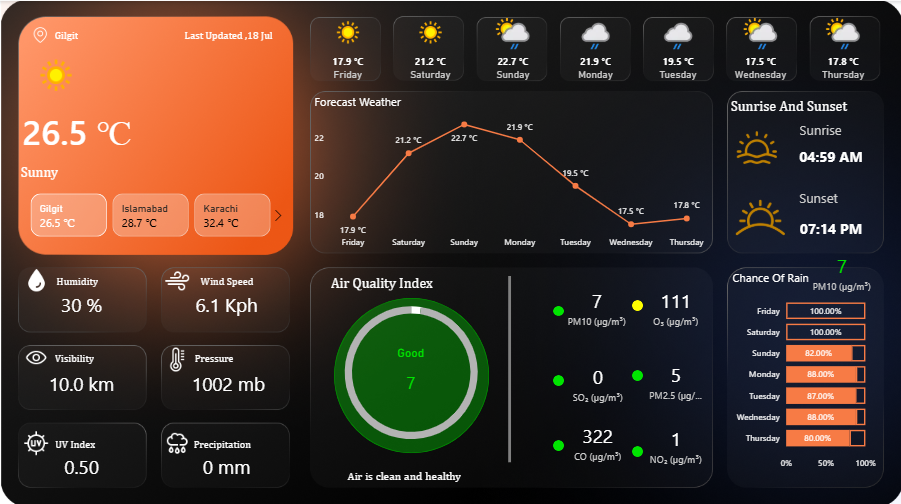

The page's visual inventory and layout, read from the dashboard file:
{"tool":"powerbi","page":{"name":"Page 1","canvas":[1280,720],"ordinal":0},"visuals":[{"type":"shape","box":[472.9,421.4,220,220],"z":0},{"type":"advancedSlicerVisual","fields":{"Values":["Location.location.name"]},"box":[18.3,268.3,391.7,71.7],"z":1000},{"type":"shape","box":[27.1,147.1,382.9,68.6],"z":2000},{"type":"shape","box":[25,215,346.7,53.3],"z":3000},{"type":"shape","box":[73,21,111,54],"z":4000},{"type":"shape","box":[199,21,192,54],"z":5000},{"type":"image","box":[41,31,32,34],"z":6000},{"type":"cardVisual","fields":{"Data":["Min(Current.current.condition.icon)"]},"box":[18.3,48.3,110,111.7],"z":7000},{"type":"image","box":[27.8,483.3,45.6,44.4],"z":8000},{"type":"shape","box":[75.6,488.9,80,34.4],"z":9000},{"type":"shape","box":[270,601.1,102.2,53.3],"z":10000},{"type":"shape","box":[273.3,488.9,72.2,33.3],"z":11000},{"type":"shape","box":[282.2,381.1,83.3,31.1],"z":12000},{"type":"shape","box":[74.4,606.7,82.2,42.2],"z":13000},{"type":"shape","box":[77.8,381.1,74.4,31.1],"z":14000},{"type":"image","box":[227.8,373.3,45.6,47.8],"z":15000},{"type":"image","box":[27.8,603.3,45.6,45.6],"z":16000},{"type":"image","box":[30,373.3,44.4,45.6],"z":17000},{"type":"image","box":[227.8,486.7,45.6,44.4],"z":18000},{"type":"image","box":[227.8,604.4,45.6,45.6],"z":19000},{"type":"card","fields":{"Values":["_Measures.Humidity"]},"box":[21.4,397.1,188.6,70],"z":20000},{"type":"card","fields":{"Values":["_Measures.Wind_Speed"]},"box":[227.1,397.1,188.6,70],"z":21000},{"type":"card","fields":{"Values":["_Measures.Visibility"]},"box":[21.4,508.6,188.6,70],"z":22000},{"type":"card","fields":{"Values":["Sum(Current.current.uv)"]},"box":[21.4,627.1,188.6,70],"z":23000},{"type":"card","fields":{"Values":["_Measures.Pressure"]},"box":[230,508.6,188.6,70],"z":24000},{"type":"card","fields":{"Values":["_Measures.Precipitation"]},"box":[227.1,627.1,188.6,70],"z":25000},{"type":"advancedSlicerVisual","fields":{"Values":["Forecast_Day.Day_Name"]},"box":[433.3,10,821.7,120],"z":26000},{"type":"lineChart","title":"Forecast Weather","fields":{"Y":["Sum(Forecast_Day.forecast.forecastday.day.avgtemp_c)"],"Category":["Forecast_Day.Day_Name"]},"box":[440.9,131.8,569.1,228.2],"z":27000},{"type":"shape","box":[1033.3,130,221.7,35],"z":28000},{"type":"shape","box":[1130,200,110,41.7],"z":29000},{"type":"shape","box":[1130,295,116.7,55],"z":30000},{"type":"shape","box":[1130,156.7,93.3,50],"z":31000},{"type":"shape","box":[1130,258.3,96.7,41.7],"z":32000},{"type":"image","box":[1026.7,251.7,103.3,108.3],"z":33000},{"type":"image","box":[1033.3,175,78.3,66.7],"z":34000},{"type":"hundredPercentStackedBarChart","title":"Chance Of Rain","fields":{"Y":["Sum(Forecast_Day.forecast.forecastday.day.daily_chance_of_rain)","Current.Left_Value_RainS"],"Category":["Forecast_Day.Day_Name"]},"box":[1033.3,381.7,213.3,291.7],"z":35000},{"type":"shape","box":[466.7,381.7,221.7,35],"z":36000},{"type":"card","fields":{"Values":["Sum(Current.current.air_quality.o3)"]},"box":[911.4,398.6,92.9,71.4],"z":37000},{"type":"card","fields":{"Values":["Sum(Current.current.air_quality.pm10)"]},"box":[800,398.6,92.9,71.4],"z":38000},{"type":"card","fields":{"Values":["Sum(Current.current.air_quality.pm2_5)"]},"box":[911.4,502.9,92.9,71.4],"z":39000},{"type":"card","fields":{"Values":["Sum(Current.current.air_quality.so2)"]},"box":[800,508.6,95.7,65.7],"z":40000},{"type":"card","fields":{"Values":["Sum(Current.current.air_quality.co)"]},"box":[800,590,95.7,71.4],"z":41000},{"type":"card","fields":{"Values":["Sum(Current.current.air_quality.no2)"]},"box":[911.4,594.3,92.9,71.4],"z":42000},{"type":"shape","box":[784.3,432.9,15.7,14.3],"z":43000},{"type":"shape","box":[784.3,530,15.7,15.7],"z":44000},{"type":"shape","box":[784.3,622.9,15.7,15.7],"z":45000},{"type":"shape","box":[895.7,424.3,15.7,15.7],"z":46000},{"type":"shape","box":[895.7,630,15.7,15.7],"z":47000},{"type":"shape","box":[895.7,522.9,15.7,15.7],"z":48000},{"type":"shape","box":[701.4,390,41.4,264.3],"z":49000},{"type":"card","fields":{"Values":["Sum(Current.current.air_quality.pm10)"]},"box":[517.1,488.6,130,85.7],"z":50000},{"type":"donutChart","fields":{"Y":["Sum(Current.current.air_quality.pm10)","_Measures.Left_Value_PM10"]},"box":[457.1,404.3,250,245.7],"z":51000},{"type":"card","fields":{"Values":["Sum(Current.current.air_quality.pm10)"]},"box":[1147.1,348.6,92.9,71.4],"z":52000},{"type":"shape","box":[432.9,648.6,281.4,48.6],"z":52001}]}

Visuals, with their boxes in screenshot pixels (x1, y1, x2, y2), scaled from the page's 1280x720 canvas onto the 901x504 screenshot:
shape: <box>333,295,488,449</box>
advancedSlicerVisual - Location.location.name: <box>13,188,289,238</box>
shape: <box>19,103,289,151</box>
shape: <box>18,150,262,188</box>
shape: <box>51,15,130,52</box>
shape: <box>140,15,275,52</box>
image: <box>29,22,51,46</box>
cardVisual - Min(Current.current.condition.icon): <box>13,34,90,112</box>
image: <box>20,338,52,369</box>
shape: <box>53,342,110,366</box>
shape: <box>190,421,262,458</box>
shape: <box>192,342,243,366</box>
shape: <box>199,267,257,289</box>
shape: <box>52,425,110,454</box>
shape: <box>55,267,107,289</box>
image: <box>160,261,192,295</box>
image: <box>20,422,52,454</box>
image: <box>21,261,52,293</box>
image: <box>160,341,192,372</box>
image: <box>160,423,192,455</box>
card - _Measures.Humidity: <box>15,278,148,327</box>
card - _Measures.Wind_Speed: <box>160,278,293,327</box>
card - _Measures.Visibility: <box>15,356,148,405</box>
card - Sum(Current.current.uv): <box>15,439,148,488</box>
card - _Measures.Pressure: <box>162,356,295,405</box>
card - _Measures.Precipitation: <box>160,439,293,488</box>
advancedSlicerVisual - Forecast_Day.Day_Name: <box>305,7,883,91</box>
"Forecast Weather" lineChart: <box>310,92,711,252</box>
shape: <box>727,91,883,115</box>
shape: <box>795,140,873,169</box>
shape: <box>795,206,878,245</box>
shape: <box>795,110,861,145</box>
shape: <box>795,181,863,210</box>
image: <box>723,176,795,252</box>
image: <box>727,122,782,169</box>
"Chance Of Rain" hundredPercentStackedBarChart: <box>727,267,877,471</box>
shape: <box>329,267,485,292</box>
card - Sum(Current.current.air_quality.o3): <box>642,279,707,329</box>
card - Sum(Current.current.air_quality.pm10): <box>563,279,629,329</box>
card - Sum(Current.current.air_quality.pm2_5): <box>642,352,707,402</box>
card - Sum(Current.current.air_quality.so2): <box>563,356,630,402</box>
card - Sum(Current.current.air_quality.co): <box>563,413,630,463</box>
card - Sum(Current.current.air_quality.no2): <box>642,416,707,466</box>
shape: <box>552,303,563,313</box>
shape: <box>552,371,563,382</box>
shape: <box>552,436,563,447</box>
shape: <box>630,297,642,308</box>
shape: <box>630,441,642,452</box>
shape: <box>630,366,642,377</box>
shape: <box>494,273,523,458</box>
card - Sum(Current.current.air_quality.pm10): <box>364,342,455,402</box>
donutChart - Sum(Current.current.air_quality.pm10) x _Measures.Left_Value_PM10: <box>322,283,498,455</box>
card - Sum(Current.current.air_quality.pm10): <box>807,244,873,294</box>
shape: <box>305,454,503,488</box>
